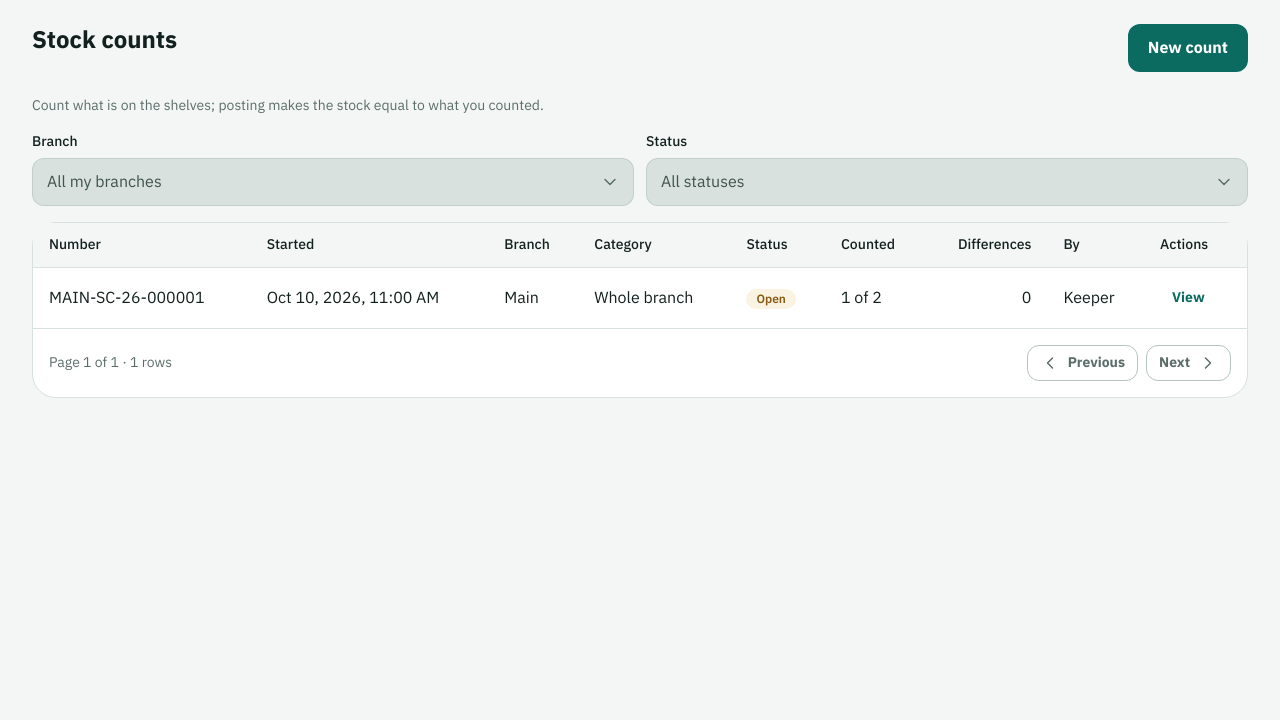
Test: I02 counts list › lists counts and starts a new one (en)
Expected: the text "Open" is shown, [746,289,796,309]
Expected: the text "Whole branch" is shown, [578,268,730,328]
Click the button "New count": {"x": 1188, "y": 48} [1128,24,1248,72]
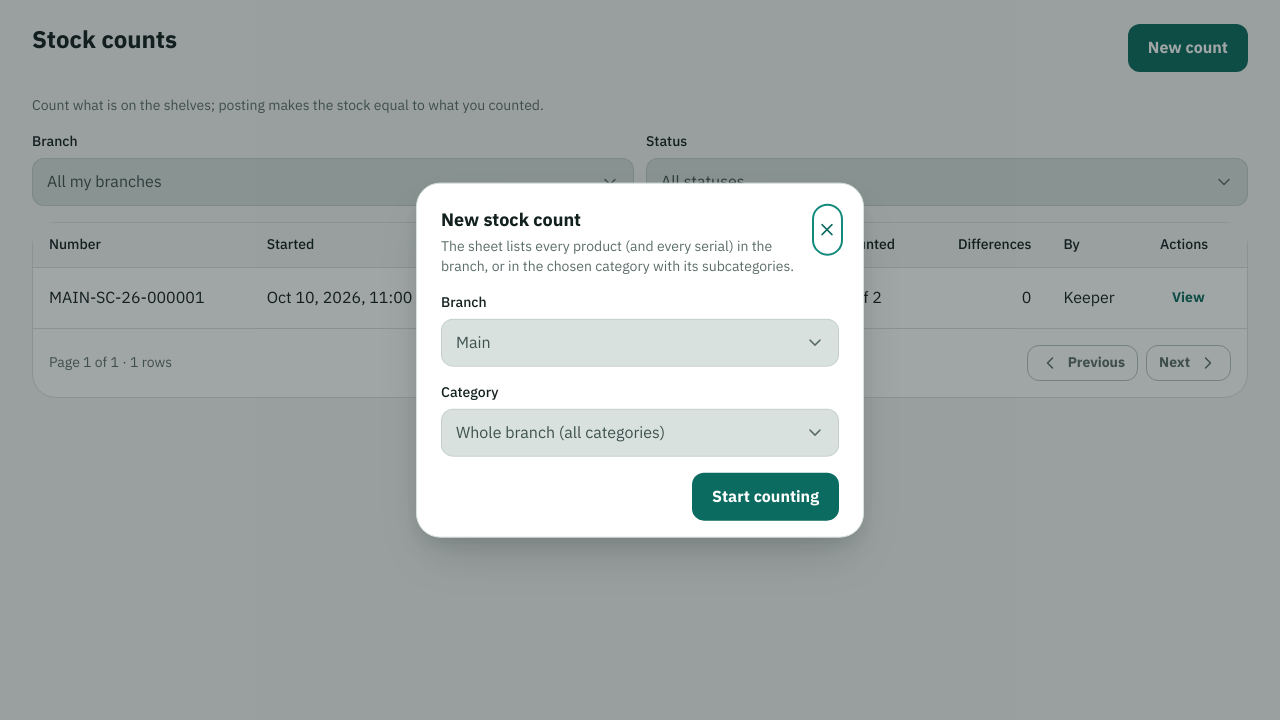
Click the button "Start counting": {"x": 766, "y": 496} [692,472,839,520]
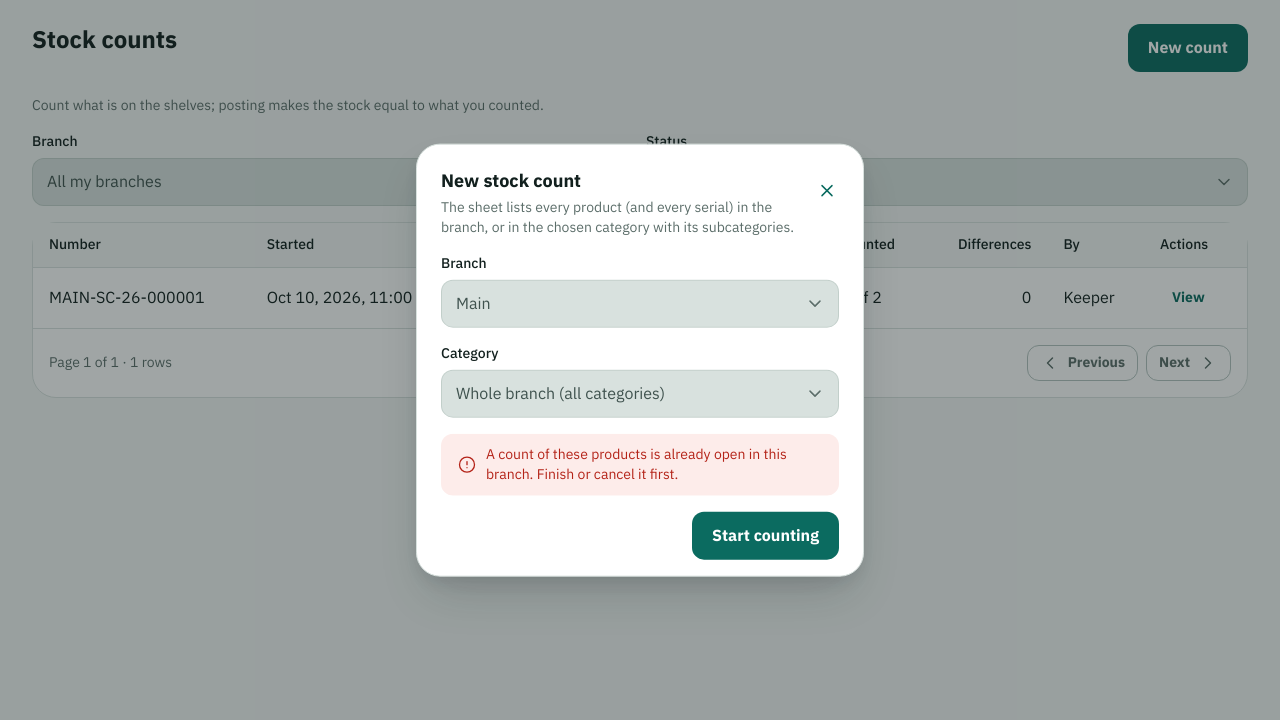
Expected: the text "A count of these products is already open in this branch. Finish or cancel it first." is shown, [486,443,787,484]
